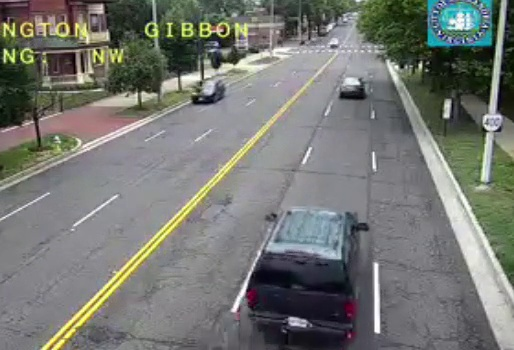car: (244, 208, 360, 342), (340, 77, 363, 97)
